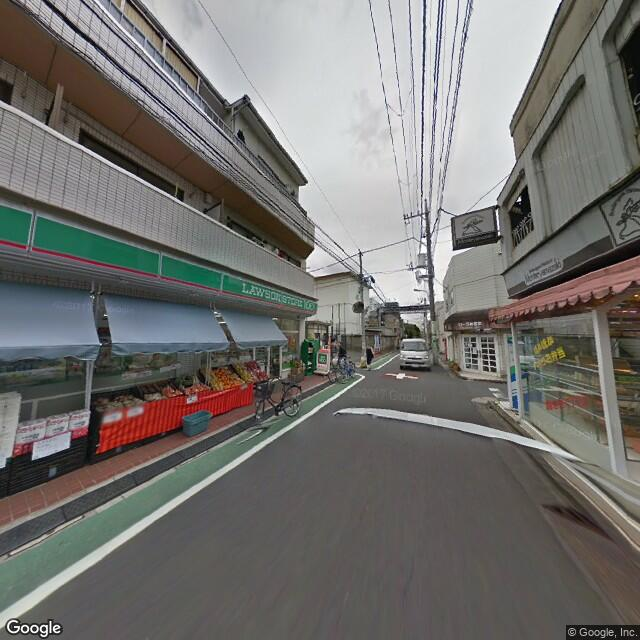lawson: (2, 197, 319, 319)
